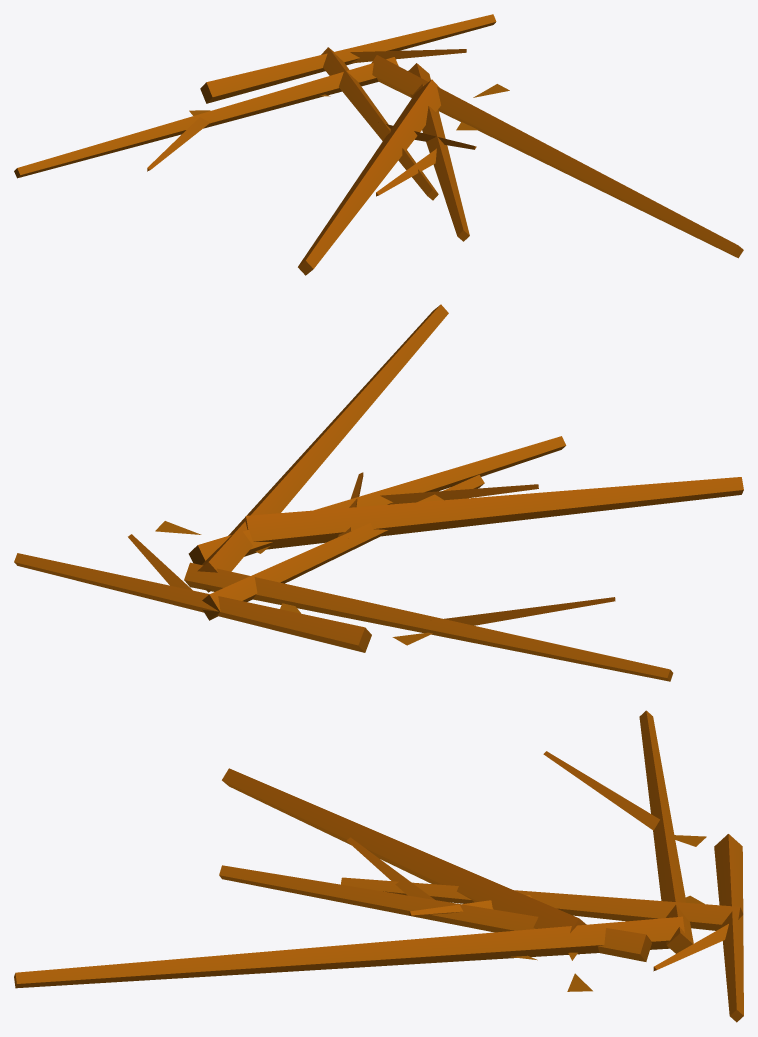
File: SM_Nature_Branches_Mortes_B.fbx
3 views of the same model, one above another, from view 1: azimuth 30°, elevation 25°; view 2: azimuth 150°, elevation 25°; view 3: azimuth 270°, elevation 25° (orthographic). The views are drawn at different scales.
Visible parts, largest first — view 1: SM_Nature_Branches_Mortes_B_LOD0; view 2: SM_Nature_Branches_Mortes_B_LOD0; view 3: SM_Nature_Branches_Mortes_B_LOD0.
Part boxes in pixels (x1=…): SM_Nature_Branches_Mortes_B_LOD0: x1=14, y1=14, x2=743, y2=275; SM_Nature_Branches_Mortes_B_LOD0: x1=14, y1=304, x2=743, y2=681; SM_Nature_Branches_Mortes_B_LOD0: x1=14, y1=710, x2=743, y2=1022.
Size of what is drawn, in the model's own units: 1.01 by 0.0574 by 1.04.
